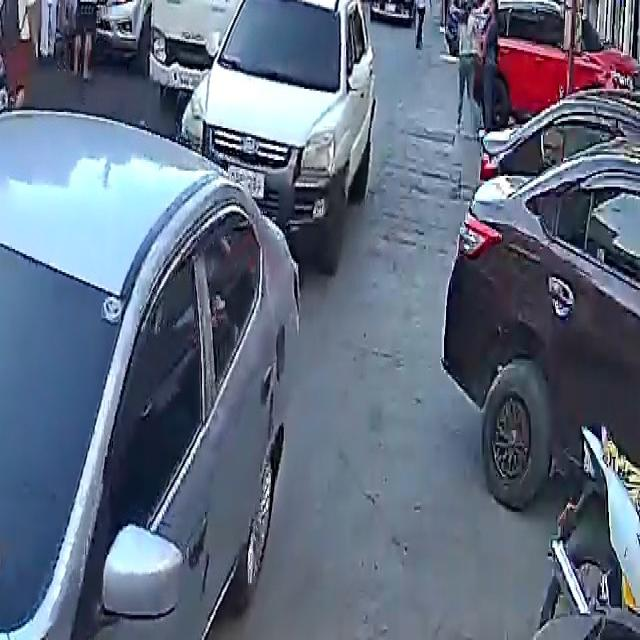car: (0, 99, 302, 640), (444, 84, 640, 532), (179, 0, 381, 254), (490, 0, 639, 126), (369, 0, 420, 21)
